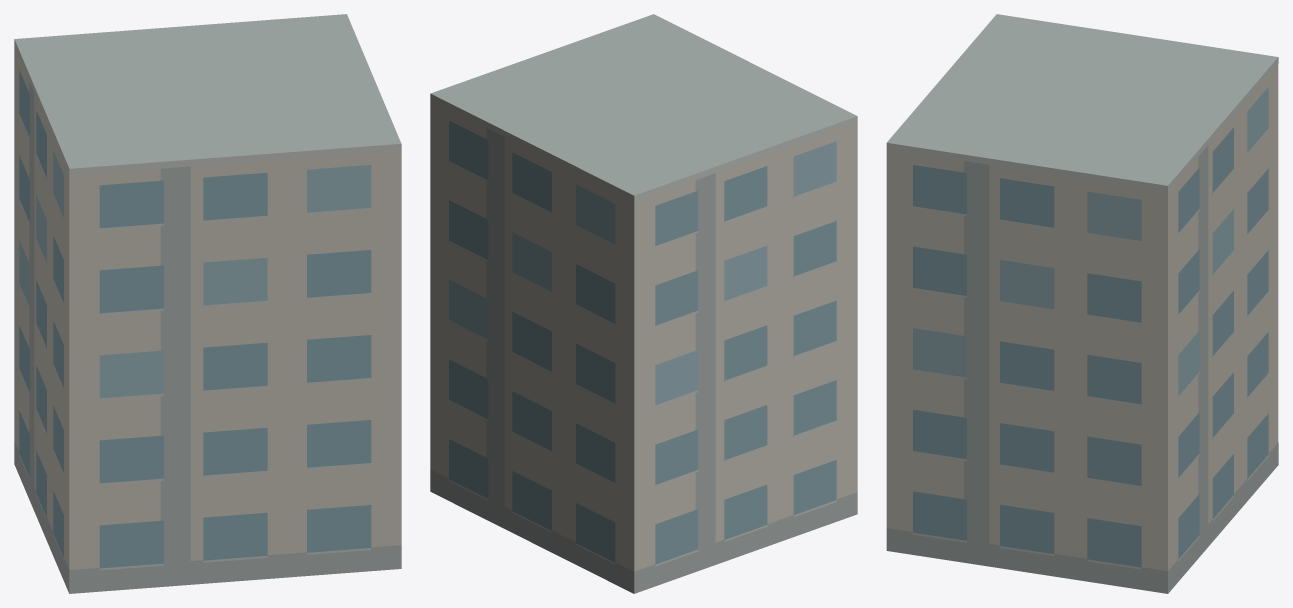
Rendered from residential-9e187edb-2864-4357-8315-4f7cf2dd3c91.glb.
3 renders of one model, left to right at view 1: azimuth 30°, elevation 25°; view 2: azimuth 150°, elevation 25°; view 3: azimuth 270°, elevation 25°, orthographic. The views are drawn at different scales.
Parts seen in each view (by area): view 1: residential-9e187edb-2864-4357-8315-4f7cf2dd3c91.tmp; view 2: residential-9e187edb-2864-4357-8315-4f7cf2dd3c91.tmp; view 3: residential-9e187edb-2864-4357-8315-4f7cf2dd3c91.tmp.
Part boxes in pixels (left/top/right/bottom): residential-9e187edb-2864-4357-8315-4f7cf2dd3c91.tmp: left=14, top=14, right=401, bottom=593; residential-9e187edb-2864-4357-8315-4f7cf2dd3c91.tmp: left=430, top=14, right=857, bottom=593; residential-9e187edb-2864-4357-8315-4f7cf2dd3c91.tmp: left=886, top=14, right=1278, bottom=593.
Size of the model in its own units: 13.78 by 15.25 by 13.28.
